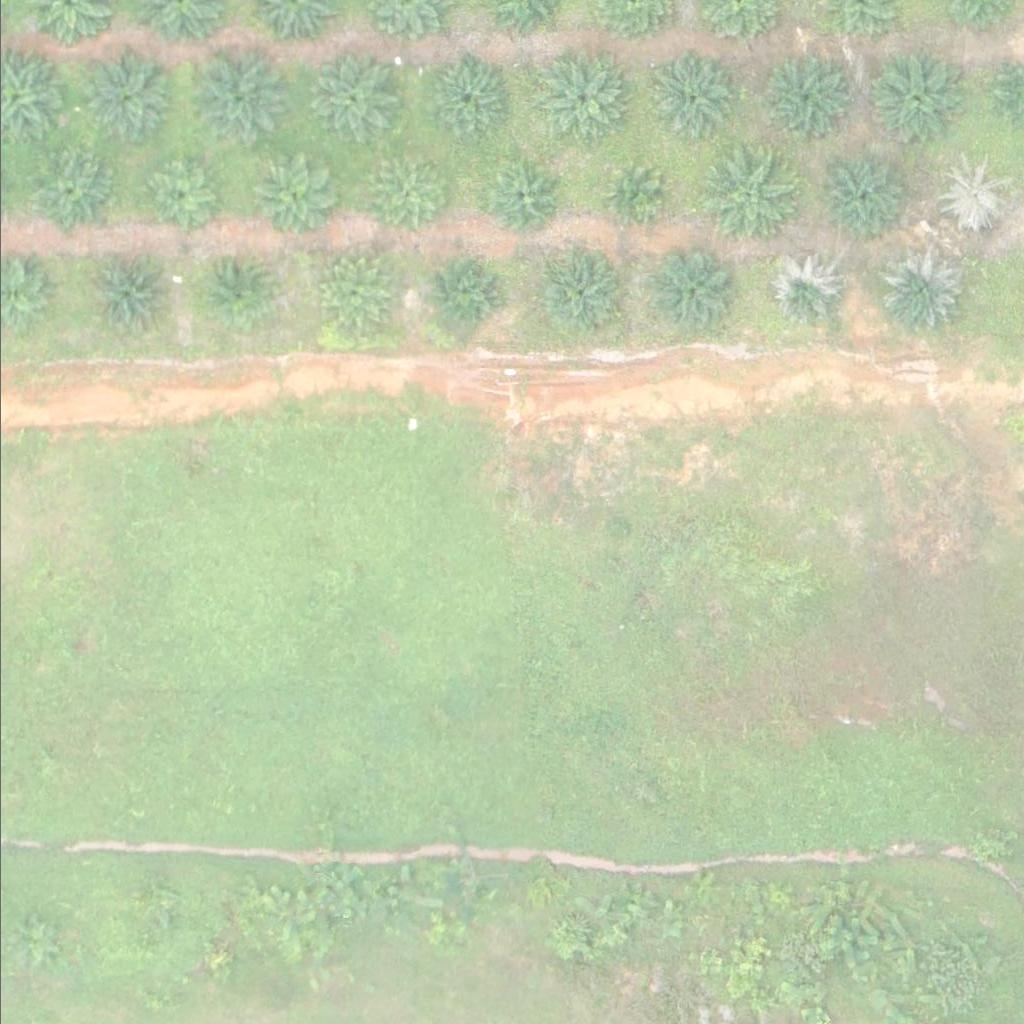Kelapa_Sawit: (184, 43, 285, 143), (864, 50, 964, 150), (810, 149, 910, 249), (696, 149, 796, 249), (418, 58, 507, 146), (874, 245, 962, 333), (644, 247, 732, 335), (533, 248, 621, 336), (24, 151, 112, 239), (305, 53, 393, 141), (80, 52, 168, 140), (252, 149, 340, 236), (80, 252, 168, 339), (759, 55, 847, 142), (643, 54, 731, 141), (533, 55, 621, 142), (935, 156, 1011, 231), (765, 257, 841, 332), (481, 162, 556, 237), (139, 160, 214, 235), (318, 252, 393, 327), (426, 259, 501, 334), (370, 154, 445, 229), (207, 257, 270, 320), (598, 164, 661, 227)
